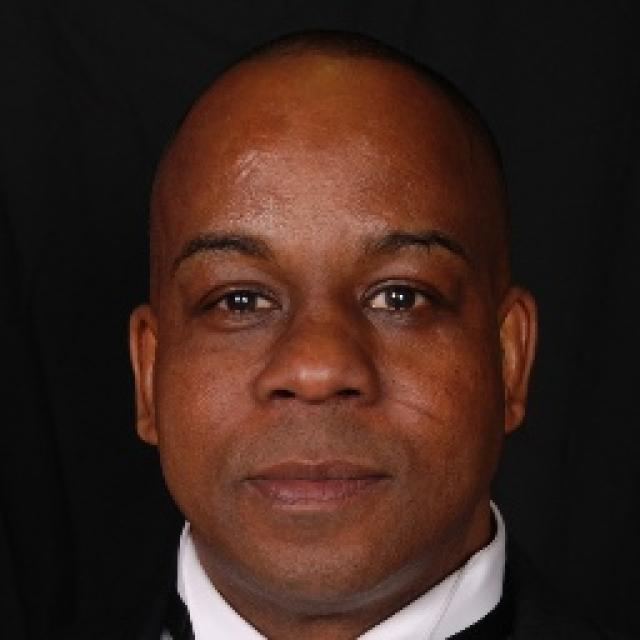earlobe: (496, 284, 537, 435), (128, 304, 162, 447)
